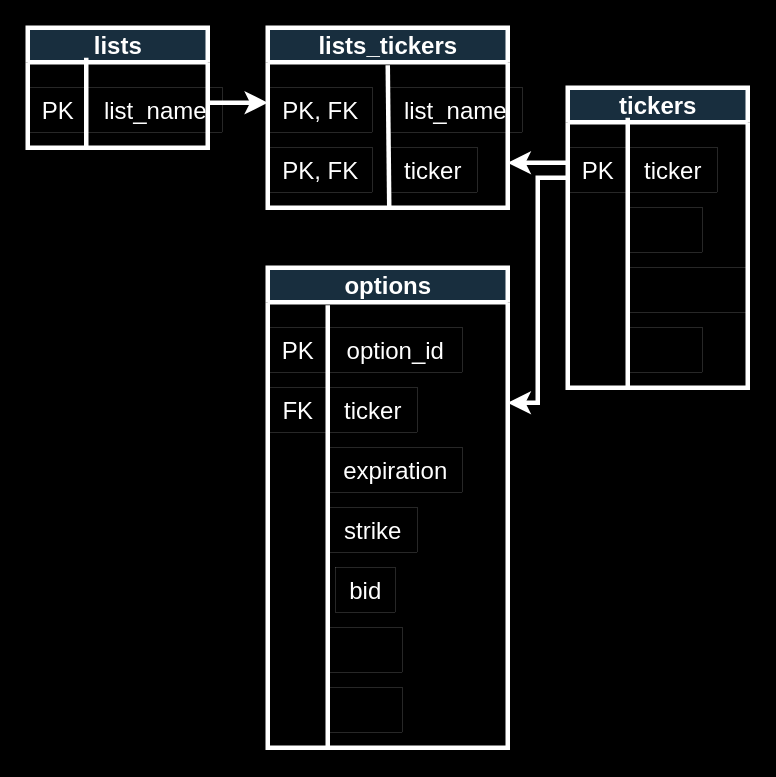
Image size: 776x777. Some labels were removed from this diagram. Here are the shapes that lost their labels. From the top down, the centre of each, then its label:
At (664,229): "high".
At (687,289): "average".
At (664,349): "low".
At (364,649): "ask".
At (364,709): "last".
